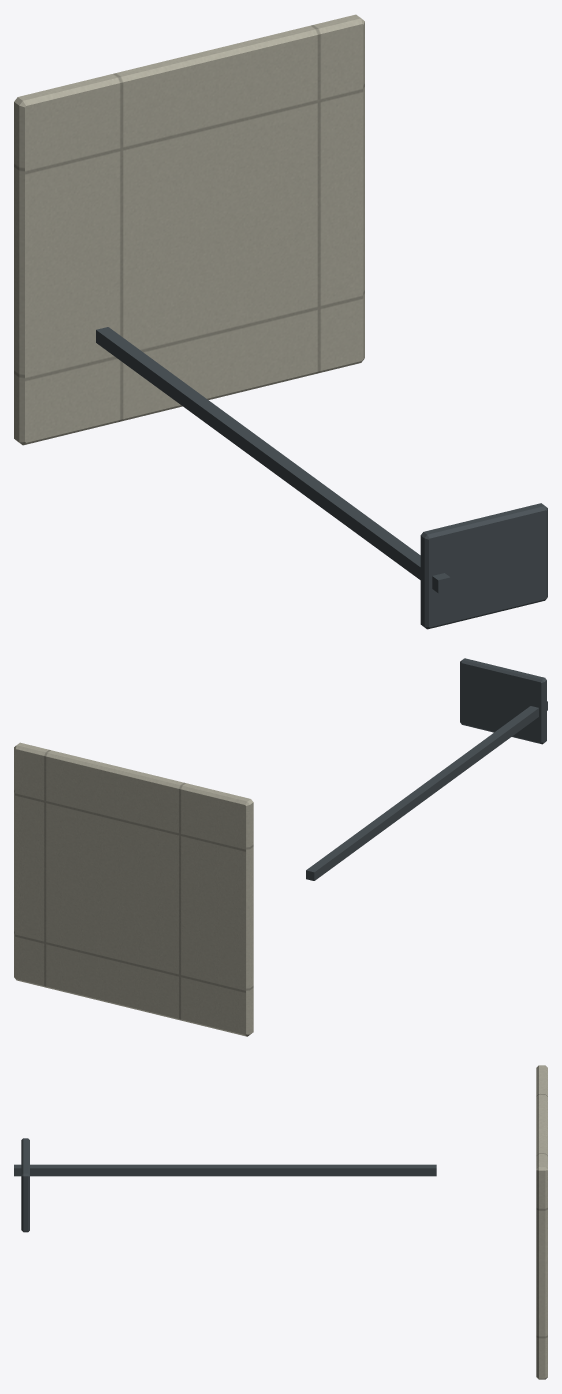
The model's file is ground_bath_shower.obj.
The picture shows the model from 3 angles, top to bottom: view 1: azimuth 30°, elevation 25°; view 2: azimuth 150°, elevation 25°; view 3: azimuth 270°, elevation 25°; orthographic projection. The views are drawn at different scales.
Parts seen in each view (by area): view 1: ground_bath_shower_tile, ground_bath_shower_metal; view 2: ground_bath_shower_tile, ground_bath_shower_metal; view 3: ground_bath_shower_metal, ground_bath_shower_tile.
Part boxes in pixels (bbox=[...]): ground_bath_shower_tile: bbox=[14, 14, 364, 445]; ground_bath_shower_metal: bbox=[96, 327, 547, 629]; ground_bath_shower_tile: bbox=[14, 742, 253, 1036]; ground_bath_shower_metal: bbox=[306, 658, 547, 880]; ground_bath_shower_metal: bbox=[14, 1138, 436, 1232]; ground_bath_shower_tile: bbox=[536, 1065, 547, 1379].
Bounding box in the file's own units: 43.5 × 40 × 91.
Materials: 2 (2 with a texture image).
